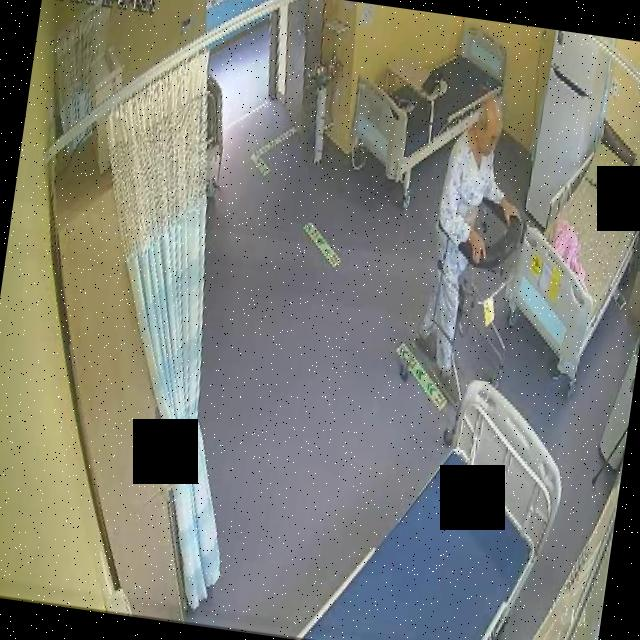bed: (301, 358, 578, 640), (498, 128, 640, 368), (344, 12, 511, 194)
patient: (414, 94, 537, 382)
